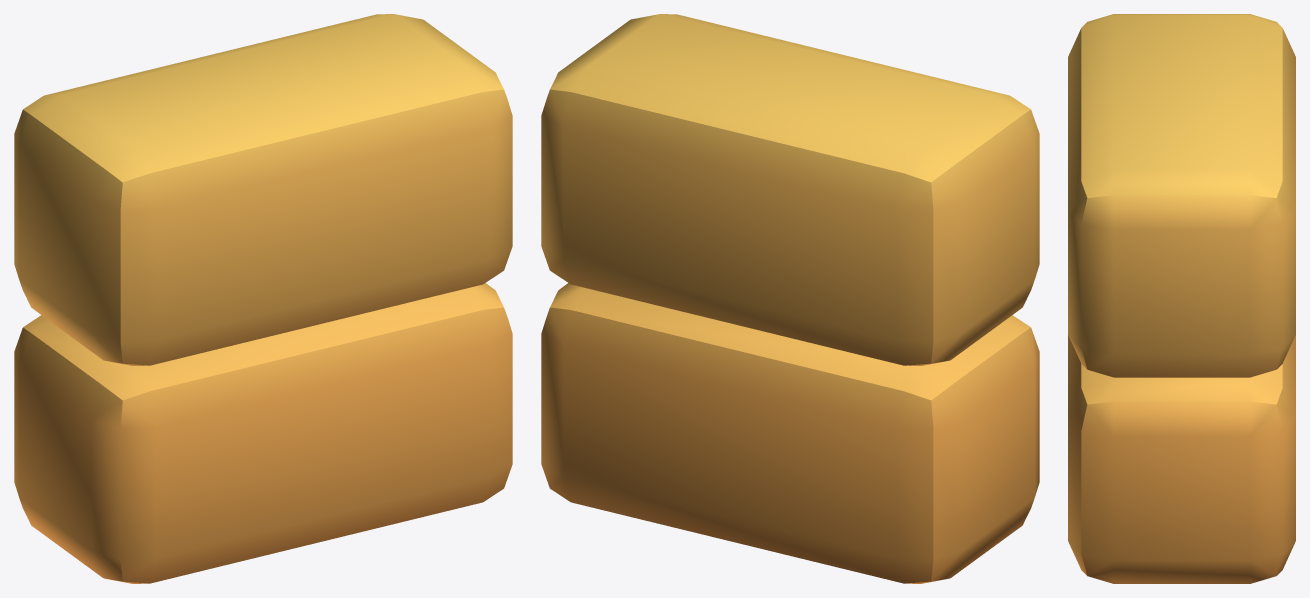
The model's file is kaykit_barrier_2x1x2_yellow.glb.
The picture shows the model from 3 angles, left to right: view 1: azimuth 30°, elevation 25°; view 2: azimuth 150°, elevation 25°; view 3: azimuth 270°, elevation 25°; orthographic projection. The views are drawn at different scales.
Parts seen in each view (by area): view 1: barrier_2x1x2_yellow_visual; view 2: barrier_2x1x2_yellow_visual; view 3: barrier_2x1x2_yellow_visual.
Part boxes in pixels (x1,y1,x2,y2): barrier_2x1x2_yellow_visual: [14, 14, 512, 583]; barrier_2x1x2_yellow_visual: [541, 14, 1039, 583]; barrier_2x1x2_yellow_visual: [1068, 14, 1295, 583].
Size of what is drawn, in the model's own units: 2 by 2 by 1.
1 material, 1 textured.
